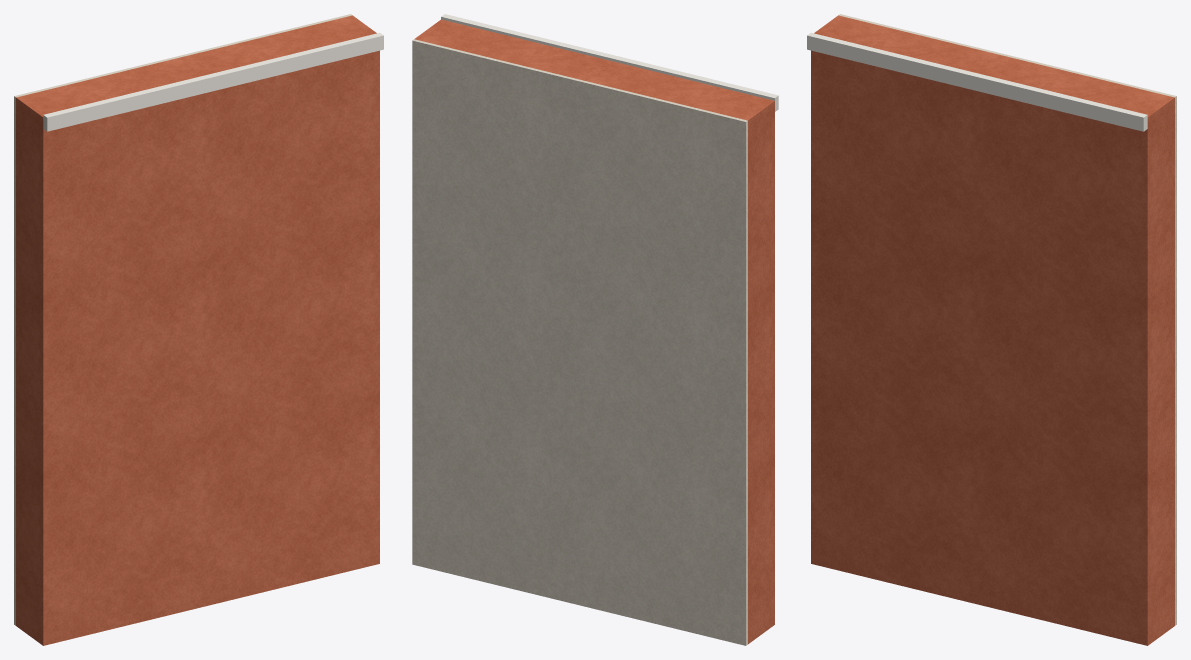
The model's file is wall_render_plain.glb.
3 renders of one model, left to right at view 1: azimuth 30°, elevation 25°; view 2: azimuth 150°, elevation 25°; view 3: azimuth 330°, elevation 25°, orthographic.
Visible parts, largest first — view 1: wall_render_plain_render, wall_render_plain_trim, wall_render_plain_plaster; view 2: wall_render_plain_plaster, wall_render_plain_render, wall_render_plain_trim; view 3: wall_render_plain_render, wall_render_plain_trim, wall_render_plain_plaster.
Part boxes in pixels (bbox=[...]): wall_render_plain_render: bbox=[16, 15, 379, 645]; wall_render_plain_trim: bbox=[43, 32, 383, 131]; wall_render_plain_plaster: bbox=[14, 14, 352, 625]; wall_render_plain_plaster: bbox=[412, 39, 747, 645]; wall_render_plain_render: bbox=[414, 19, 774, 644]; wall_render_plain_trim: bbox=[441, 14, 778, 111]; wall_render_plain_render: bbox=[811, 15, 1174, 645]; wall_render_plain_trim: bbox=[807, 32, 1147, 131]; wall_render_plain_plaster: bbox=[838, 14, 1176, 625].
Bounding box in the file's own units: 2 × 3.02 × 0.34.
Materials: 3 (2 with a texture image).
